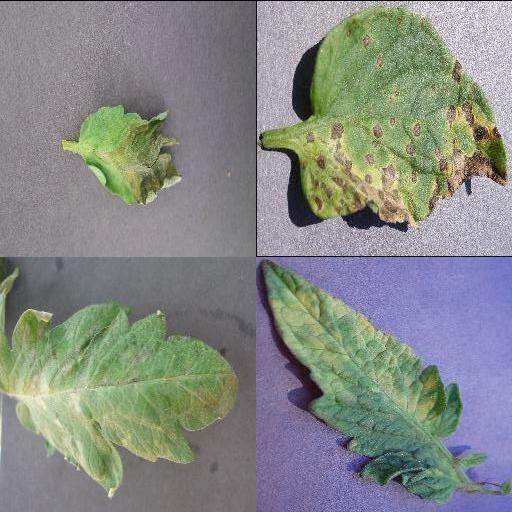Late Blight: (0, 267, 241, 500), (77, 103, 183, 203)
Leaf Mold: (260, 258, 464, 500)
Septoria: (297, 7, 507, 223)
